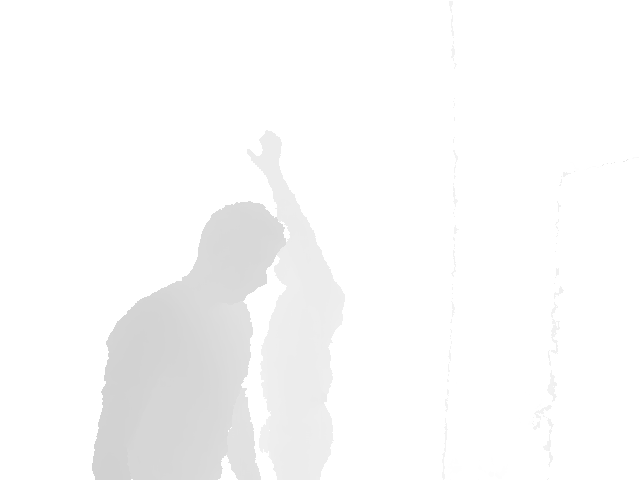hand: (245, 129, 282, 177)
head: (194, 199, 284, 302), (274, 236, 324, 293)
person: (90, 198, 284, 480), (245, 129, 347, 480)
